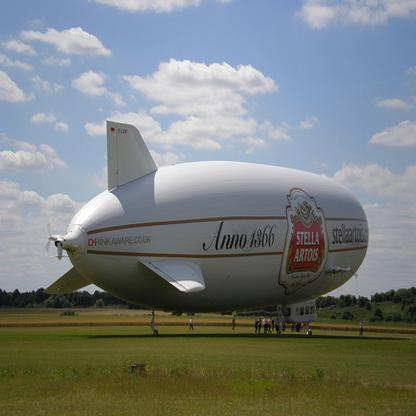Airship: (55, 119, 373, 324)
